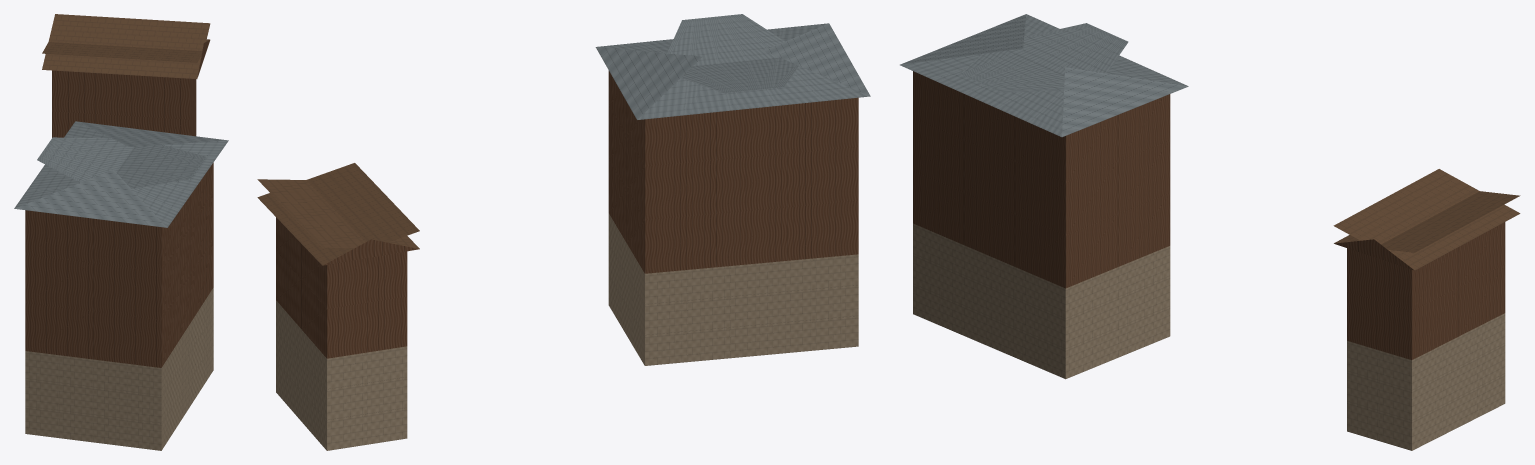
File: bld_c-10_41_518.gltf
The picture shows the model from 3 angles, left to right: view 1: azimuth 30°, elevation 25°; view 2: azimuth 150°, elevation 25°; view 3: azimuth 270°, elevation 25°; orthographic projection. The views are drawn at different scales.
Parts seen in each view (by area): view 1: bld_c-10_41_518; view 2: bld_c-10_41_518; view 3: bld_c-10_41_518.
Part boxes in pixels (left/top/right/bottom): bld_c-10_41_518: left=14, top=14, right=228, bottom=450; bld_c-10_41_518: left=257, top=14, right=870, bottom=450; bld_c-10_41_518: left=900, top=14, right=1520, bottom=450.
Bounding box in the file's own units: 24.07 × 15 × 31.65.
Materials: 5 (5 with a texture image).
